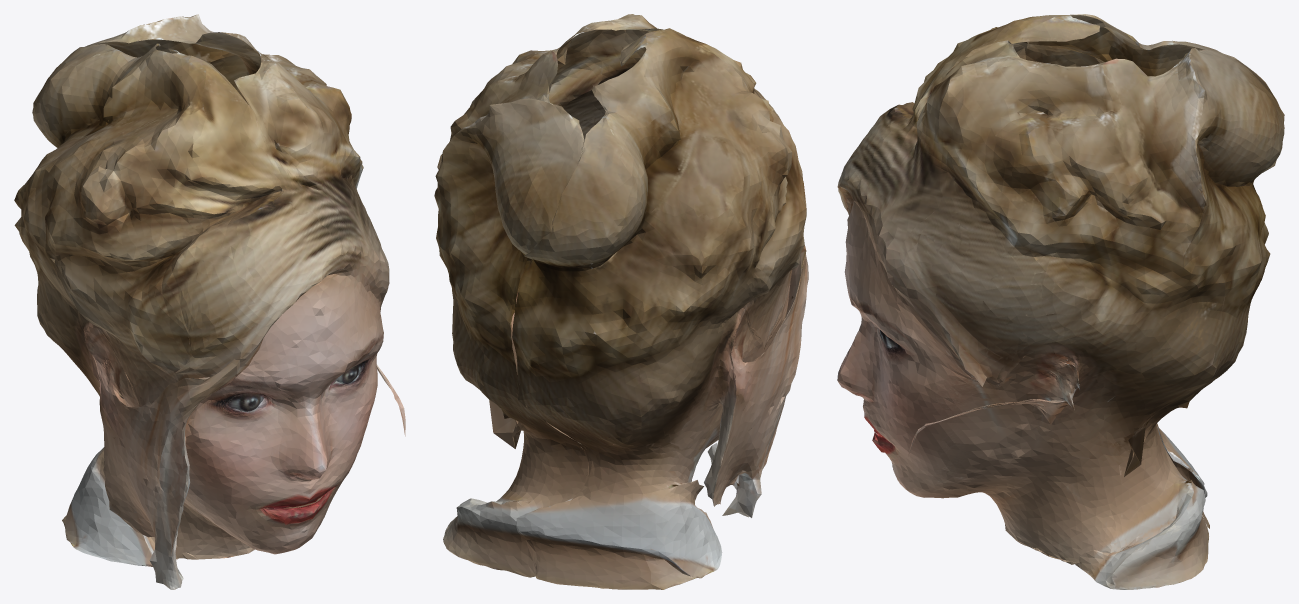
3 views of the same model, side by side, from view 1: azimuth 30°, elevation 25°; view 2: azimuth 150°, elevation 25°; view 3: azimuth 270°, elevation 25° (orthographic).
Bounding box in the file's own units: 1.16 × 1.8 × 1.47.
1 material, 1 textured.
